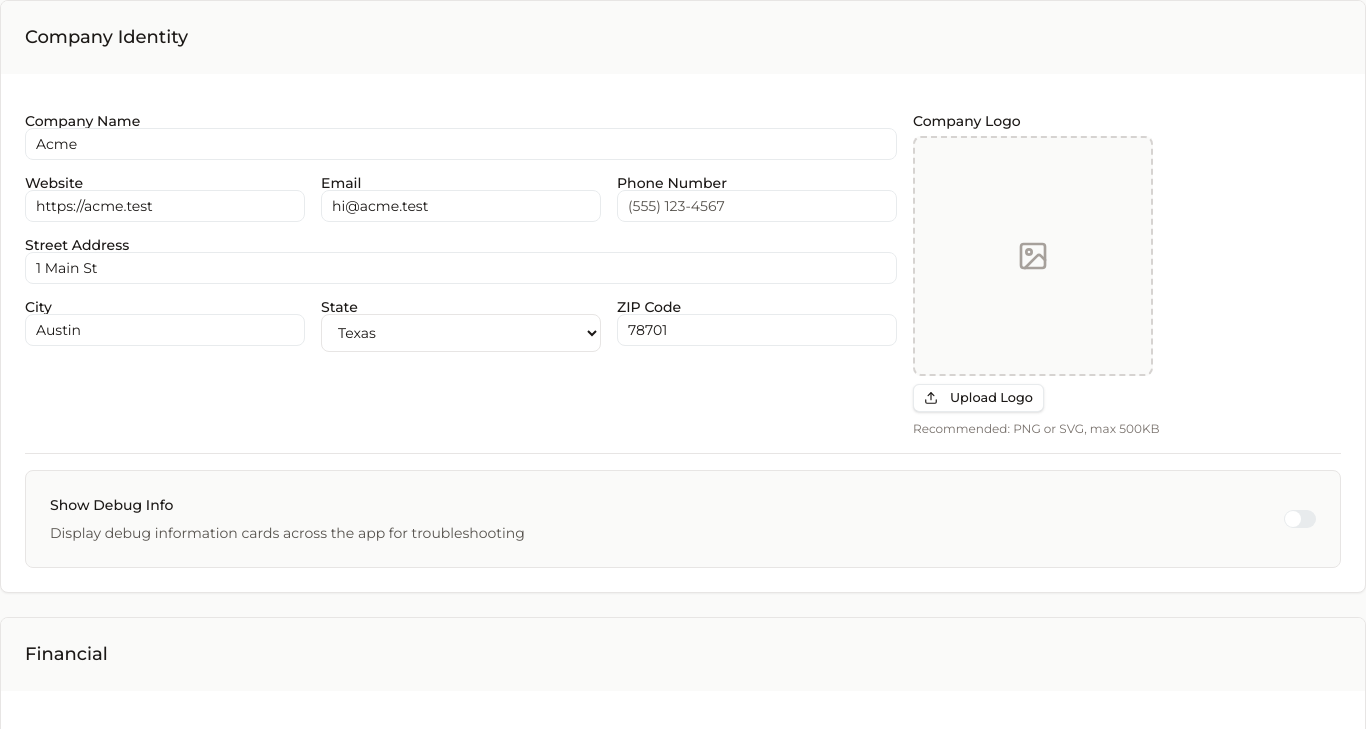
Test: CompanySettingsTab › applies formatPhone masking when phone is edited
This screenshot has width=1366, height=729.
Type "5551234567" into the field labelled "Phone Number" at (757,206), box top-left (617, 190), bottom-right (897, 222)
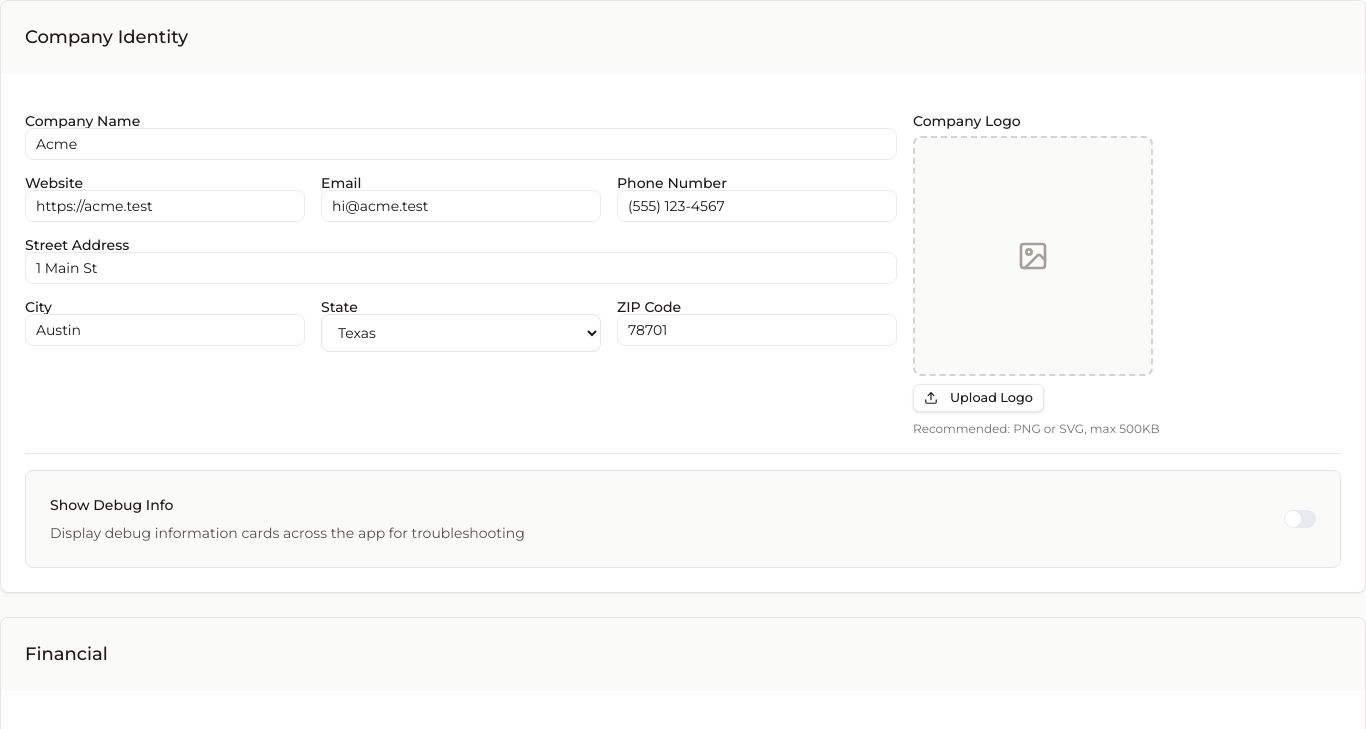
expect the field labelled "Phone Number" holds "(555) 123-4567": met, box top-left (617, 190), bottom-right (897, 222)
